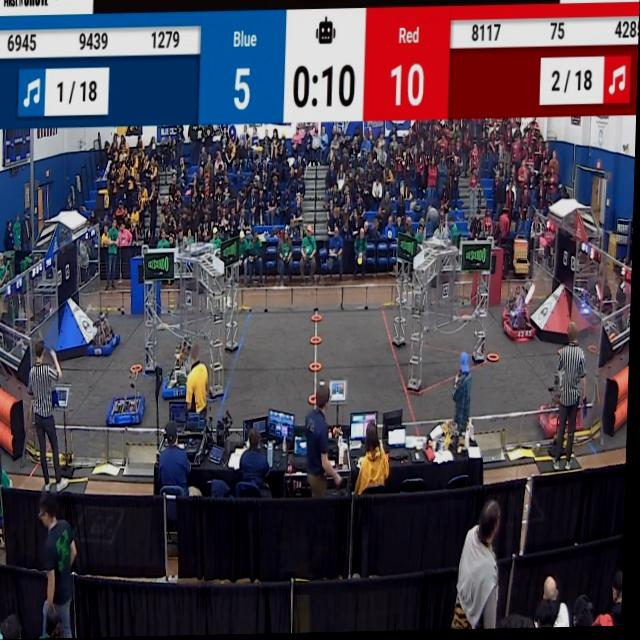Robot: (540, 339, 590, 445), (108, 360, 154, 427), (501, 288, 538, 349), (89, 307, 126, 362), (503, 274, 535, 328), (165, 336, 189, 403)
